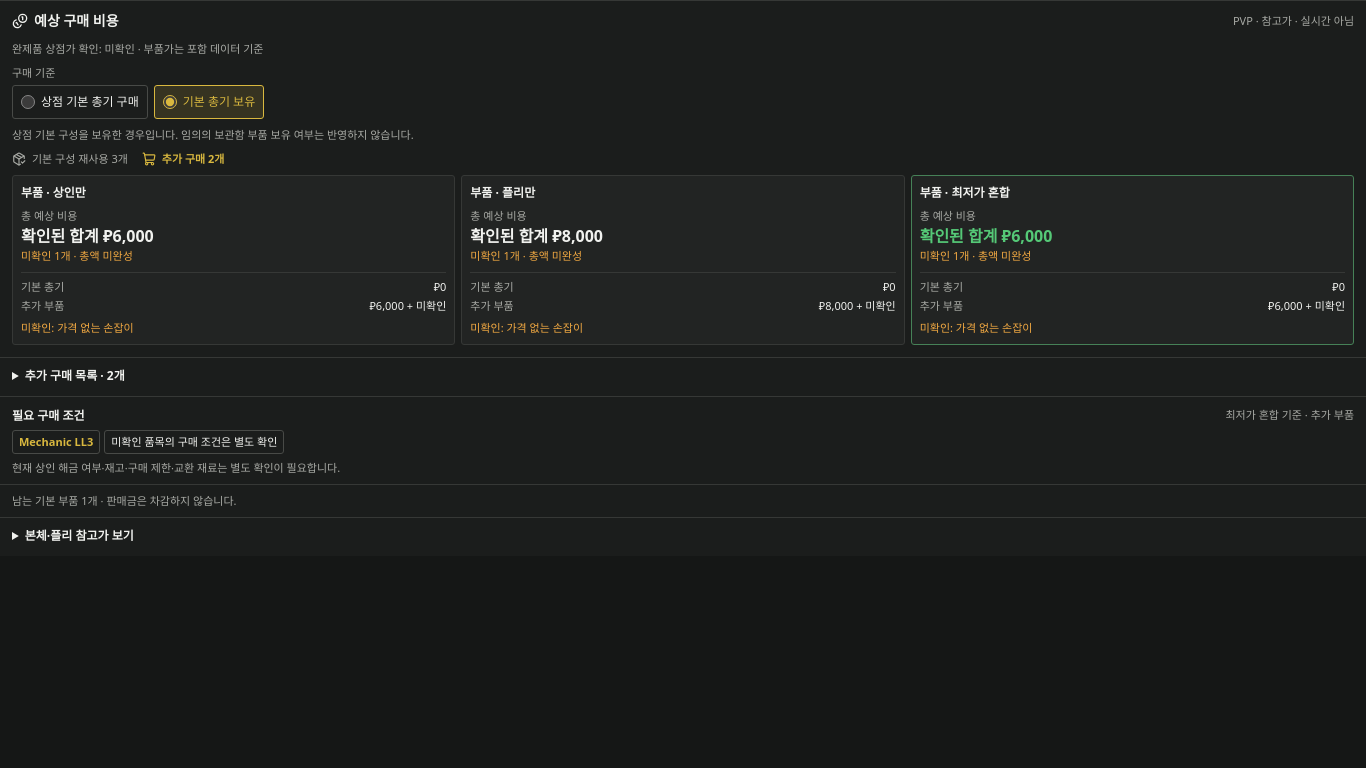
BuildPriceSummary purchase view › identifies missing prices without presenting a partial sum as an attainable minimum
This screenshot has width=1366, height=768.
Expected: the text "확인된 합계 ₽6,000" below "상인만" is shown, [21, 225, 154, 247]
Expected: the text "미확인 1개 · 총액 미완성" below "상인만" is shown, [21, 248, 133, 263]
Click the heading "추가 구매 목록 · 2개": (75, 375) [25, 367, 125, 384]
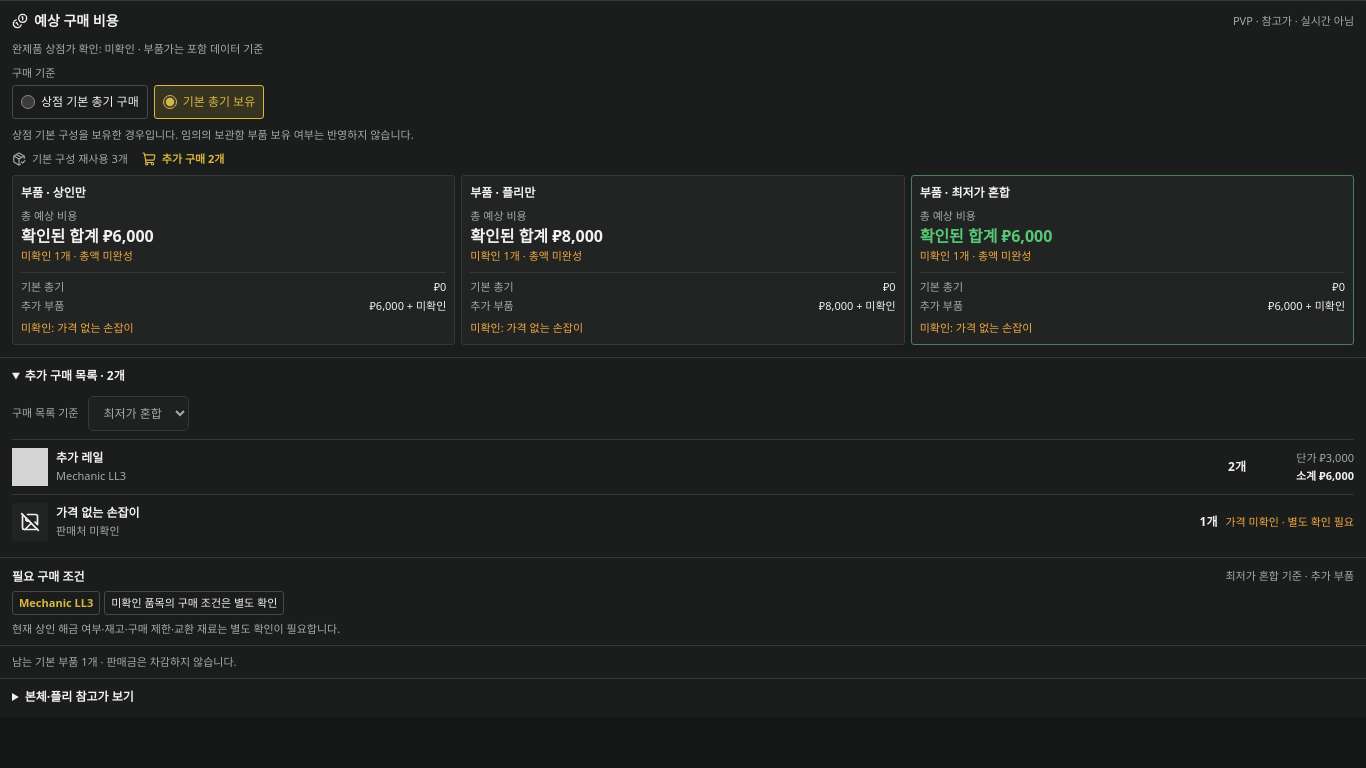
Now the text "가격 없는 손잡이" is shown, box [56, 504, 140, 521]
Now the text "가격 미확인 · 별도 확인 필요" is shown, box [1225, 514, 1354, 530]
